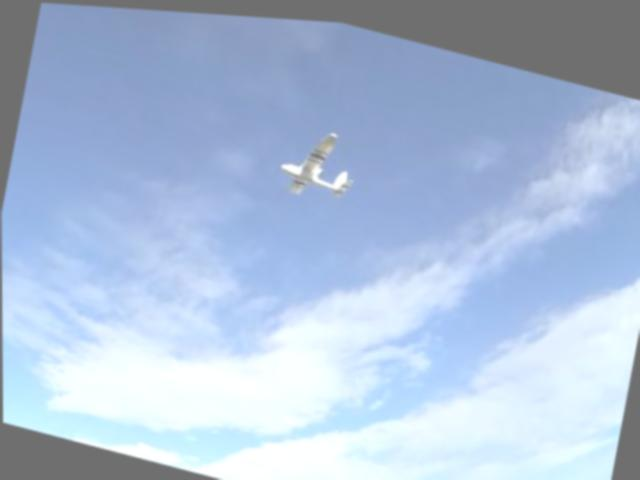uav: (270, 107, 369, 215)
